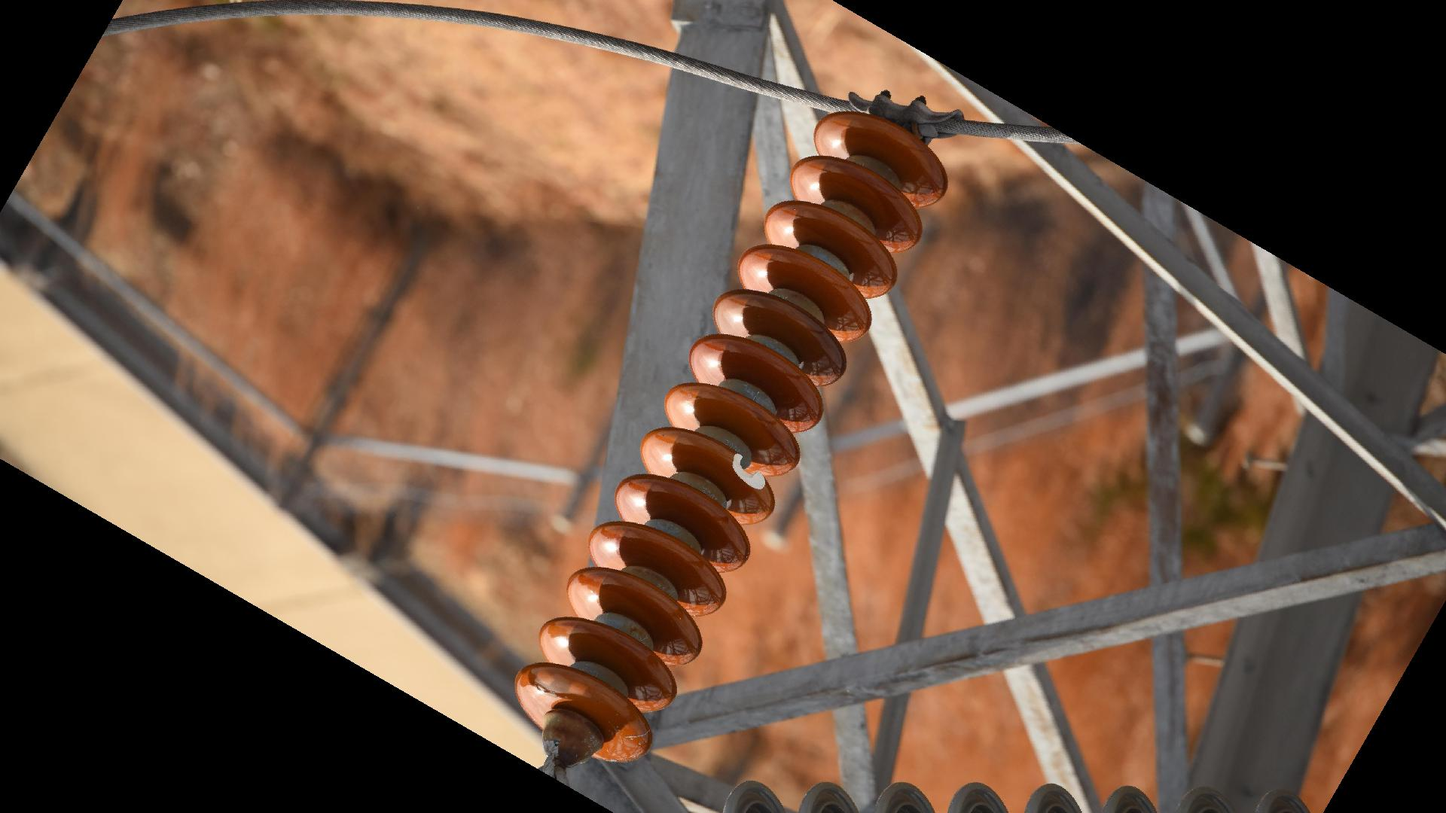insulator: (511, 98, 956, 776)
insulator_breakage: (721, 446, 776, 501)
